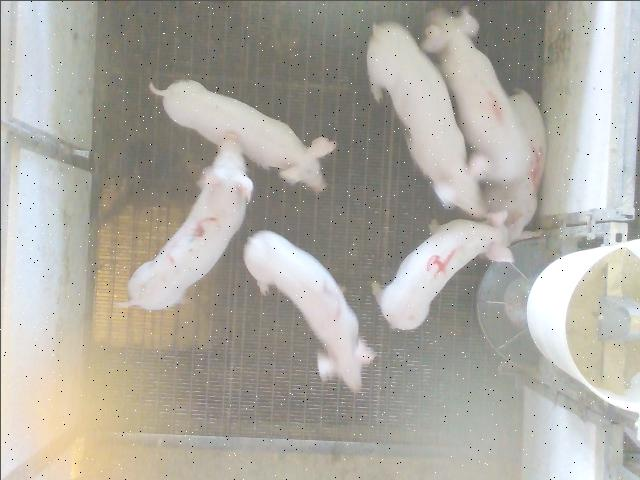pig-1: (422, 9, 530, 182)
pig-2: (244, 231, 375, 391)
pig-3: (118, 132, 251, 309)
pig-4: (371, 210, 512, 328)
pig-5: (482, 90, 545, 241)
